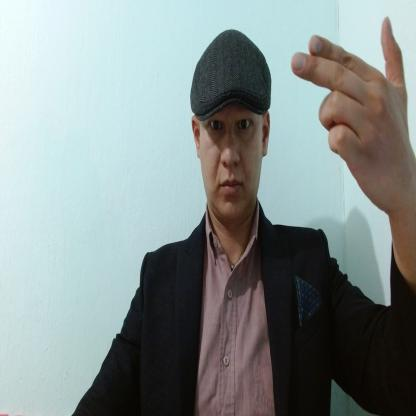H: (289, 18, 410, 212)
